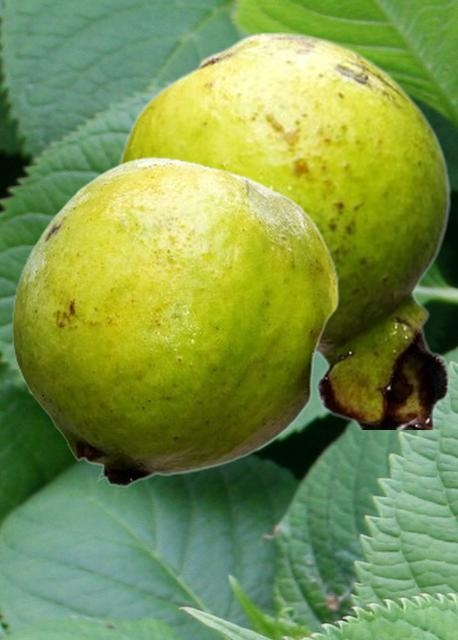guava: (115, 31, 451, 428), (11, 156, 338, 487)
